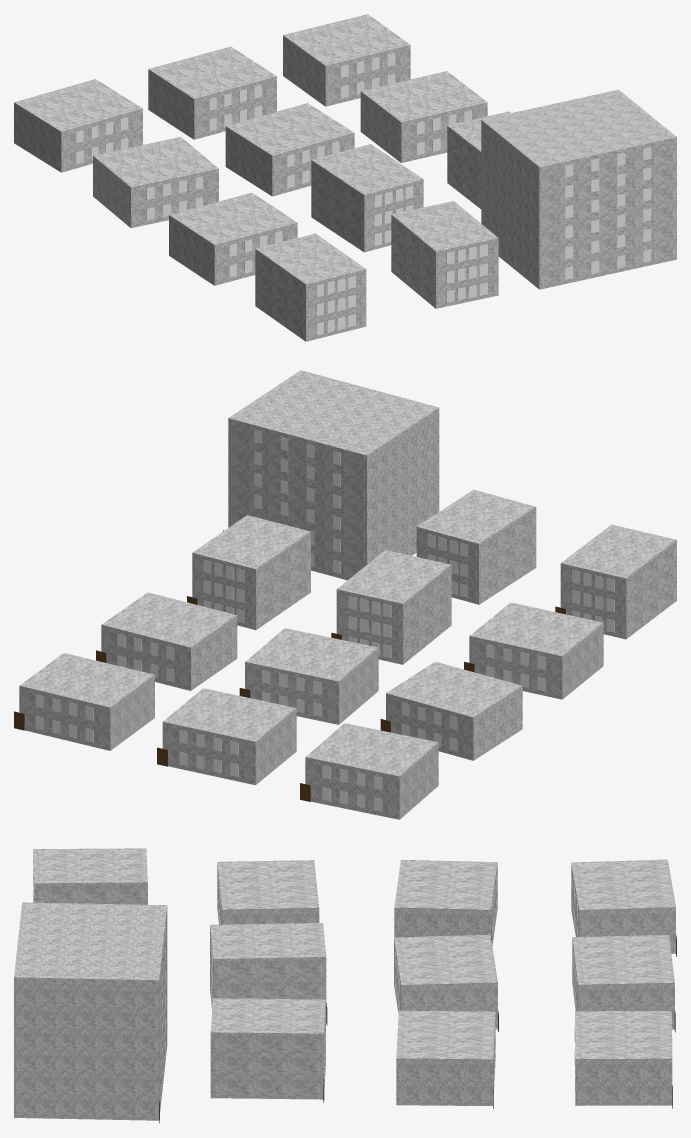
Rendered from bld_mlmwfxrc_uoxe54f.glb.
The picture shows the model from 3 angles, top to bottom: view 1: azimuth 30°, elevation 25°; view 2: azimuth 150°, elevation 25°; view 3: azimuth 270°, elevation 25°; orthographic projection. The views are drawn at different scales.
Visible parts, largest first — view 1: building-building-1771108782342-18, building-building-1771108782342-16, building-building-1771108782342-17, building-building-1771108782342-2, building-building-1771108782342-1, building-building-1771108782342-3, building-building-1771108782342-12, building-building-1771108782342-6, building-building-1771108782342-7, building-building-1771108782342-11, building-building-1771108782342-8, building-building-1771108782342-13; view 2: building-building-1771108782342-18, building-building-1771108782342-3, building-building-1771108782342-2, building-building-1771108782342-13, building-building-1771108782342-1, building-building-1771108782342-16, building-building-1771108782342-6, building-building-1771108782342-12, building-building-1771108782342-8, building-building-1771108782342-11, building-building-1771108782342-17, building-building-1771108782342-7; view 3: building-building-1771108782342-18, building-building-1771108782342-13, building-building-1771108782342-8, building-building-1771108782342-3, building-building-1771108782342-12, building-building-1771108782342-1, building-building-1771108782342-7, building-building-1771108782342-6, building-building-1771108782342-2, building-building-1771108782342-11, building-building-1771108782342-16.
Part boxes in pixels (x1,y1,x2,y2): building-building-1771108782342-18: [481, 89, 676, 289]; building-building-1771108782342-16: [255, 233, 366, 341]; building-building-1771108782342-17: [391, 201, 498, 308]; building-building-1771108782342-2: [148, 46, 276, 139]; building-building-1771108782342-1: [14, 79, 142, 172]; building-building-1771108782342-3: [283, 14, 410, 106]; building-building-1771108782342-12: [311, 144, 423, 252]; building-building-1771108782342-6: [93, 137, 218, 228]; building-building-1771108782342-7: [225, 103, 354, 196]; building-building-1771108782342-11: [169, 192, 297, 285]; building-building-1771108782342-8: [360, 71, 487, 162]; building-building-1771108782342-13: [447, 111, 510, 208]; building-building-1771108782342-18: [223, 370, 439, 580]; building-building-1771108782342-3: [14, 653, 154, 750]; building-building-1771108782342-2: [157, 688, 296, 785]; building-building-1771108782342-13: [187, 515, 310, 629]; building-building-1771108782342-1: [300, 723, 438, 819]; building-building-1771108782342-16: [555, 524, 676, 639]; building-building-1771108782342-6: [380, 661, 522, 760]; building-building-1771108782342-12: [331, 550, 451, 664]; building-building-1771108782342-8: [96, 592, 237, 690]; building-building-1771108782342-11: [464, 602, 603, 699]; building-building-1771108782342-17: [416, 489, 536, 604]; building-building-1771108782342-7: [239, 628, 378, 724]; building-building-1771108782342-18: [14, 902, 167, 1123]; building-building-1771108782342-13: [210, 998, 325, 1102]; building-building-1771108782342-8: [396, 1010, 495, 1108]; building-building-1771108782342-3: [575, 1011, 672, 1108]; building-building-1771108782342-12: [210, 923, 327, 1025]; building-building-1771108782342-1: [571, 859, 676, 956]; building-building-1771108782342-7: [394, 934, 498, 1032]; building-building-1771108782342-6: [394, 859, 497, 945]; building-building-1771108782342-2: [572, 935, 675, 1032]; building-building-1771108782342-11: [217, 860, 319, 924]; building-building-1771108782342-16: [33, 848, 147, 904].
Size of the model in its own units: 63.62 by 19.23 by 82.1.
60 materials, 12 textured.
